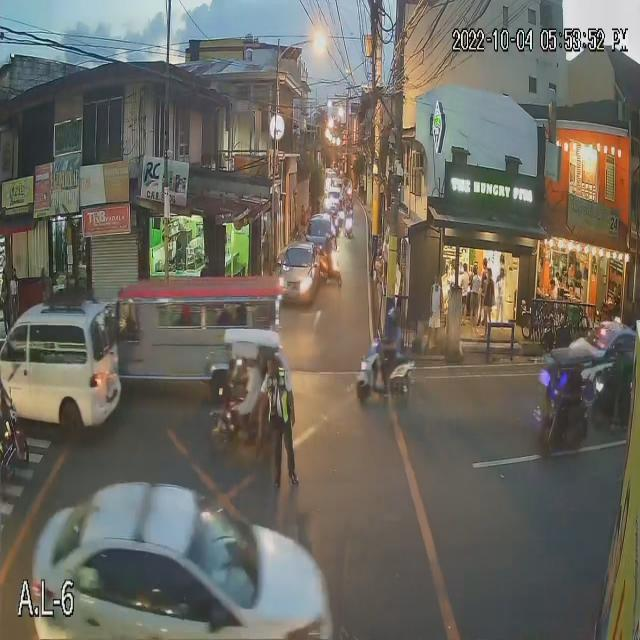helmet: (387, 308, 404, 329)
motorcycle: (355, 341, 416, 403)
rider: (380, 324, 402, 398)
